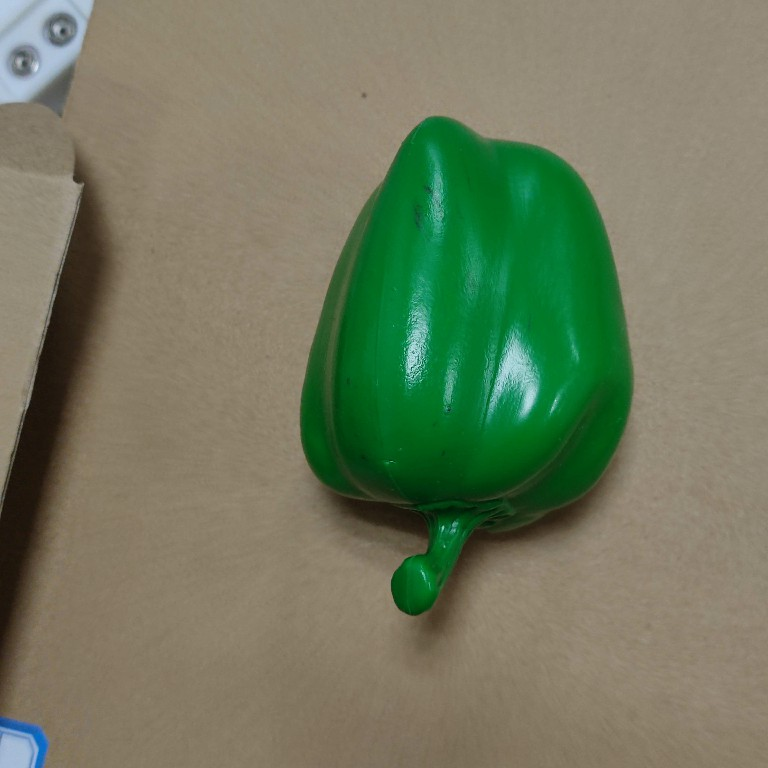fruit_pepper: (294, 109, 640, 618)
